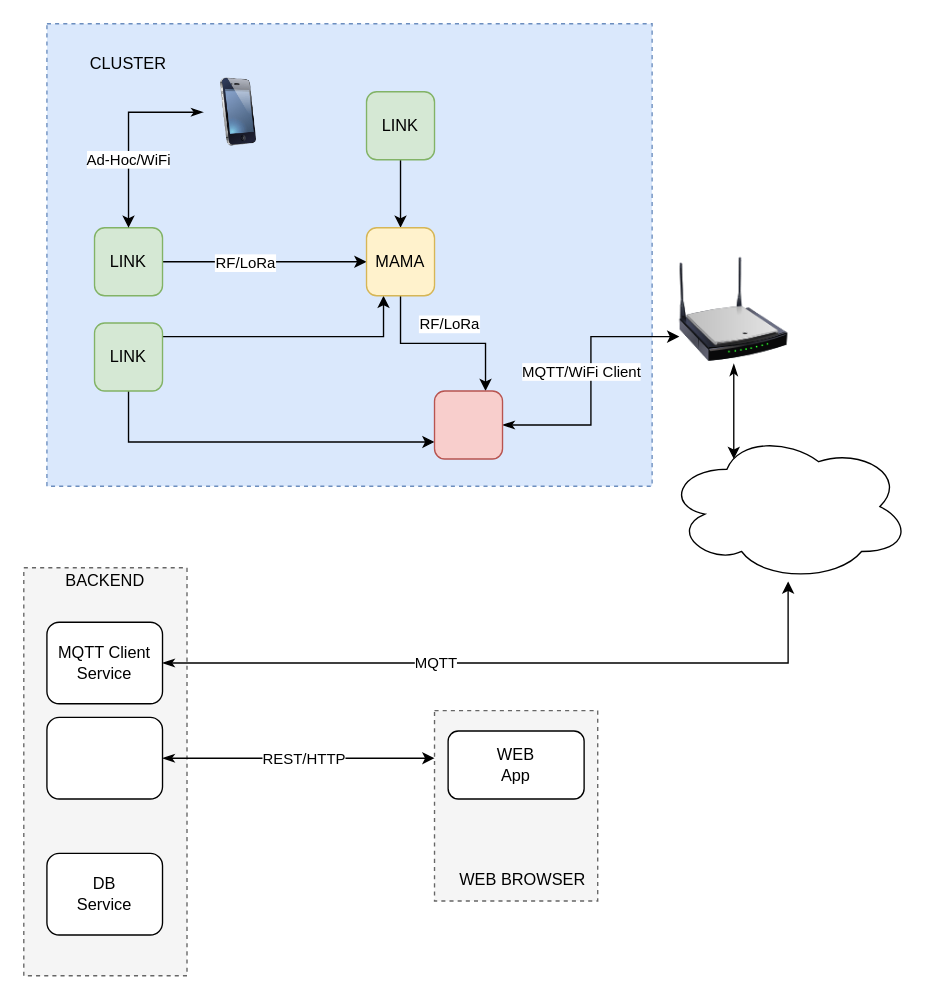
The diagram is 934 pixels wide and 1000 high, and some of its shapes have lost their labels. Each missing label, with the centre of its shape:
"MQTT Broker" belongs at point 787,505.
"PAPA" belongs at point 468,424.
"WEB Service" belongs at point 104,757.
